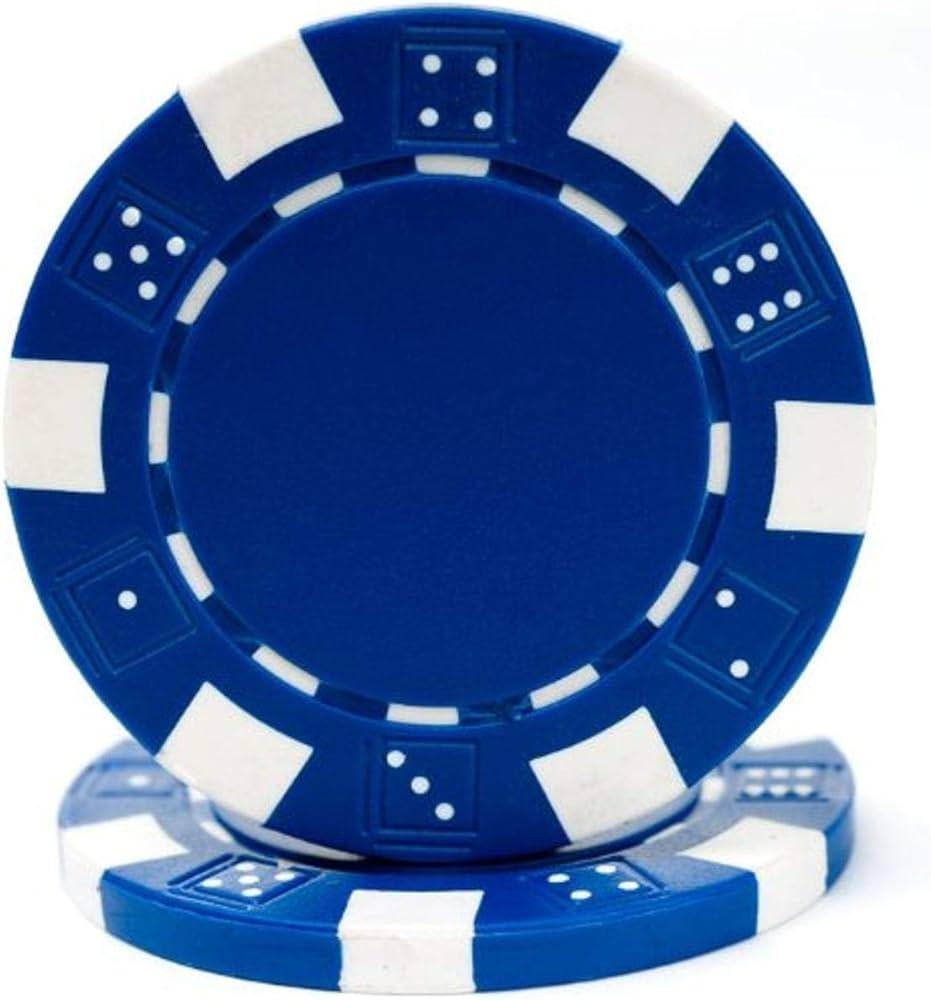chip-blue: (6, 8, 873, 988), (61, 740, 854, 992)
